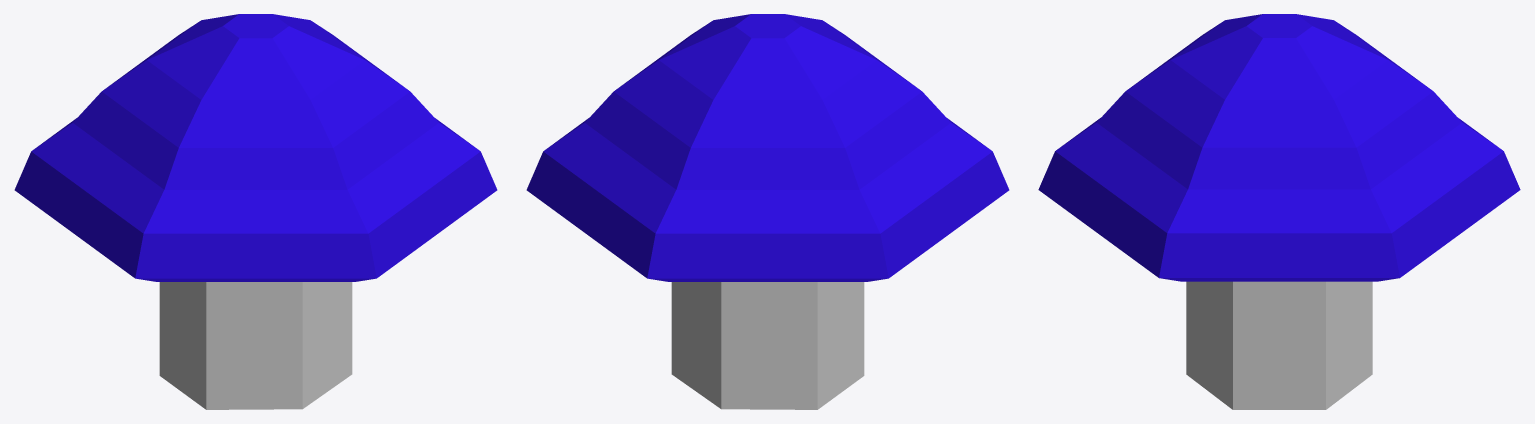
The model's file is Mushroom_02Normal.fbx.
The picture shows the model from 3 angles, left to right: view 1: azimuth 30°, elevation 25°; view 2: azimuth 150°, elevation 25°; view 3: azimuth 270°, elevation 25°; orthographic projection.
Visible parts, largest first — view 1: Mushroom_02Normal; view 2: Mushroom_02Normal; view 3: Mushroom_02Normal.
Boxes of the visible parts, bbox=[...] form: Mushroom_02Normal: bbox=[14, 14, 497, 409]; Mushroom_02Normal: bbox=[526, 14, 1009, 409]; Mushroom_02Normal: bbox=[1038, 14, 1520, 409].
Bounding box in the file's own units: 60.16 × 55.37 × 69.47.
